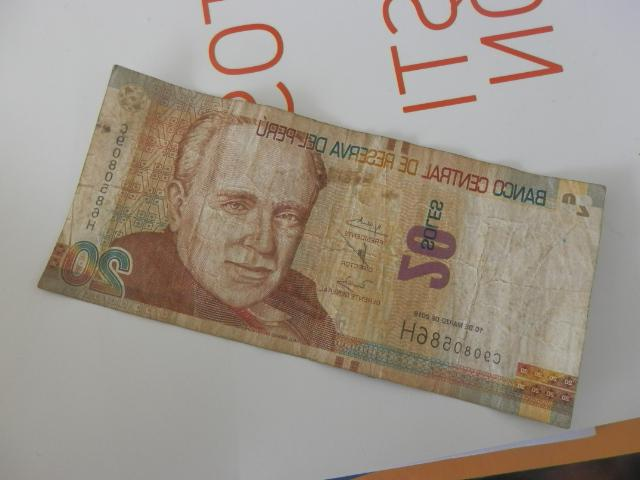B20: (37, 66, 605, 429)
